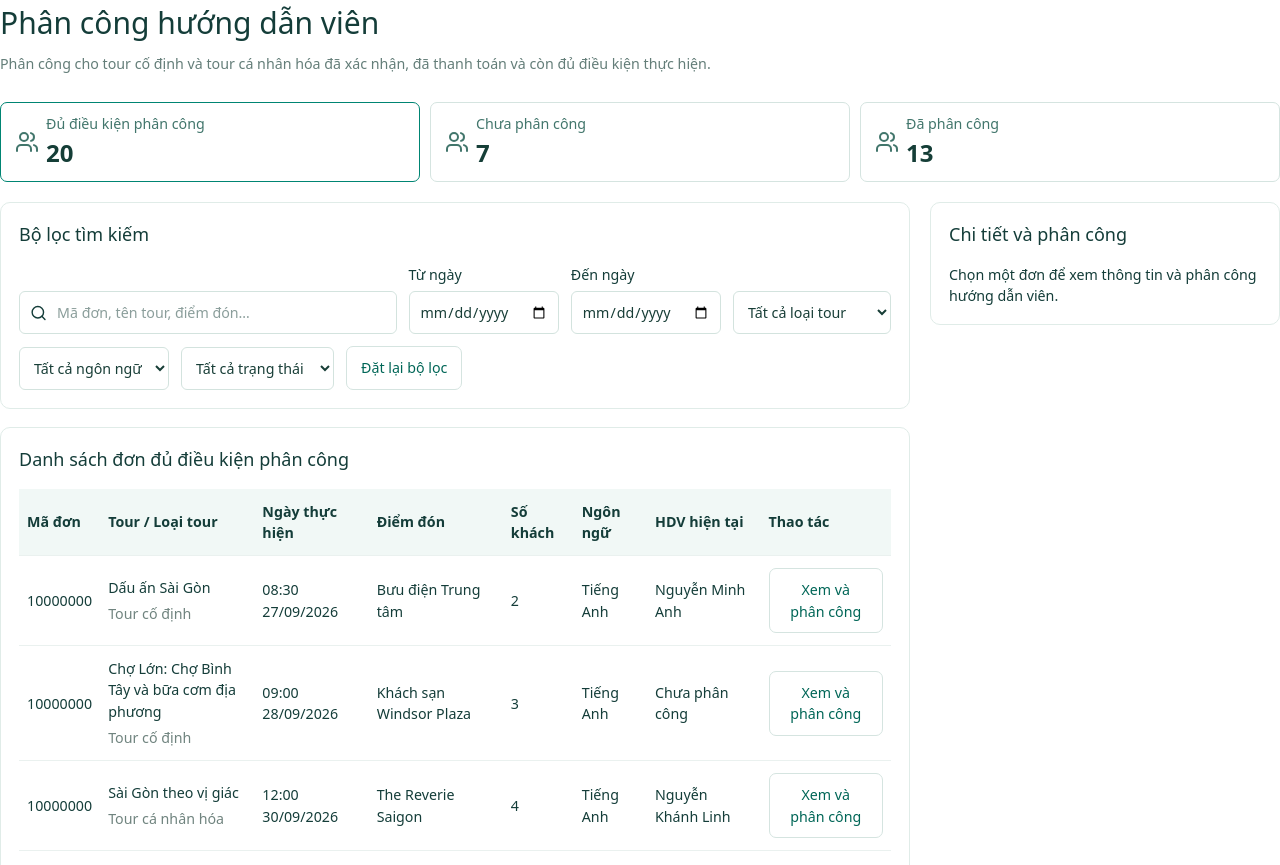
Test: preserves previous guide history when reassigning a sample booking
This screenshot has width=1280, height=865.
Expected: the text "Khách sạn Windsor Plaza" is shown, [369,646,503,761]
Click the button "Xem và phân công" in the row of "Dấu ấn Sài Gòn". click: point(826, 601)
box: [768,568,883,633]
(page scrolled)
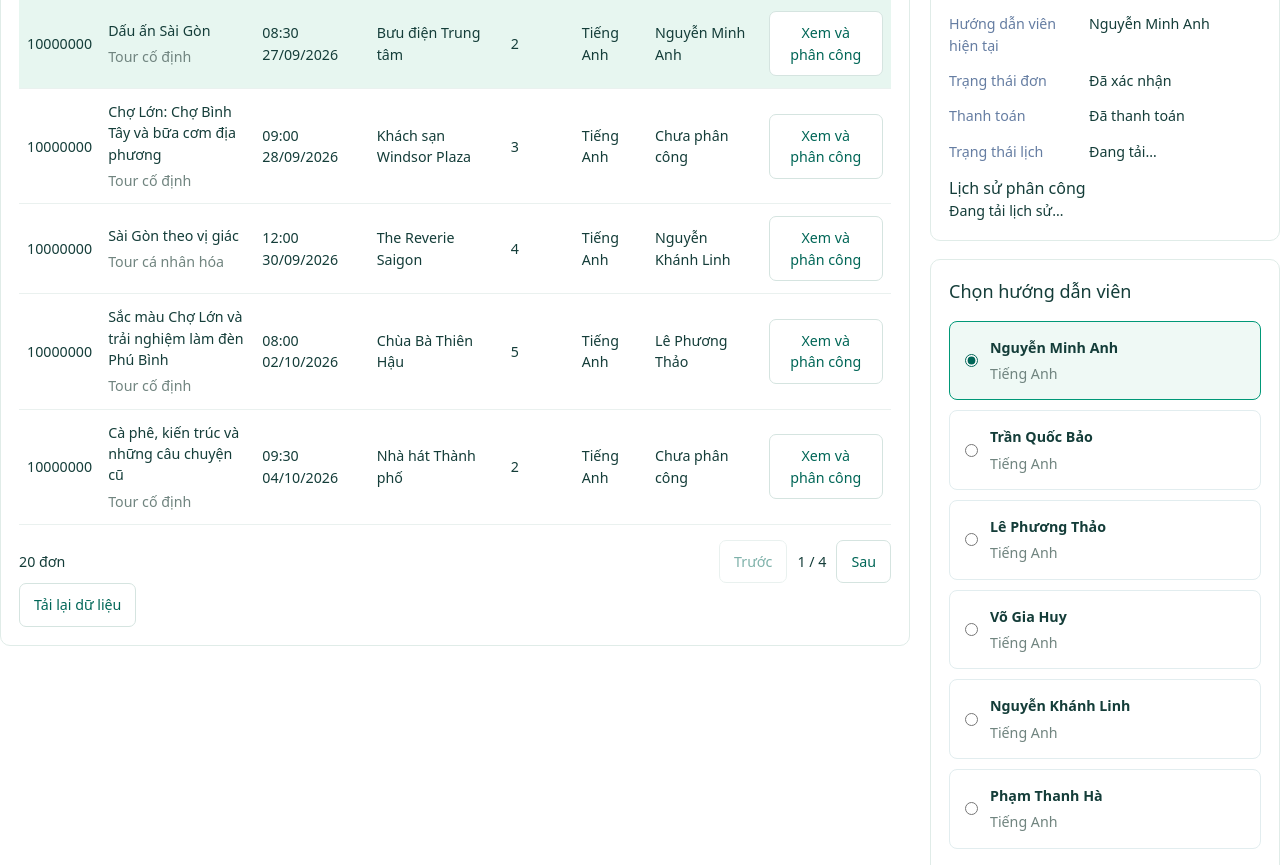
Click the radio button labelled "Trần Quốc Bảo Tiếng Anh". click: point(972, 450)
box: [965,444,978,456]
(page scrolled)
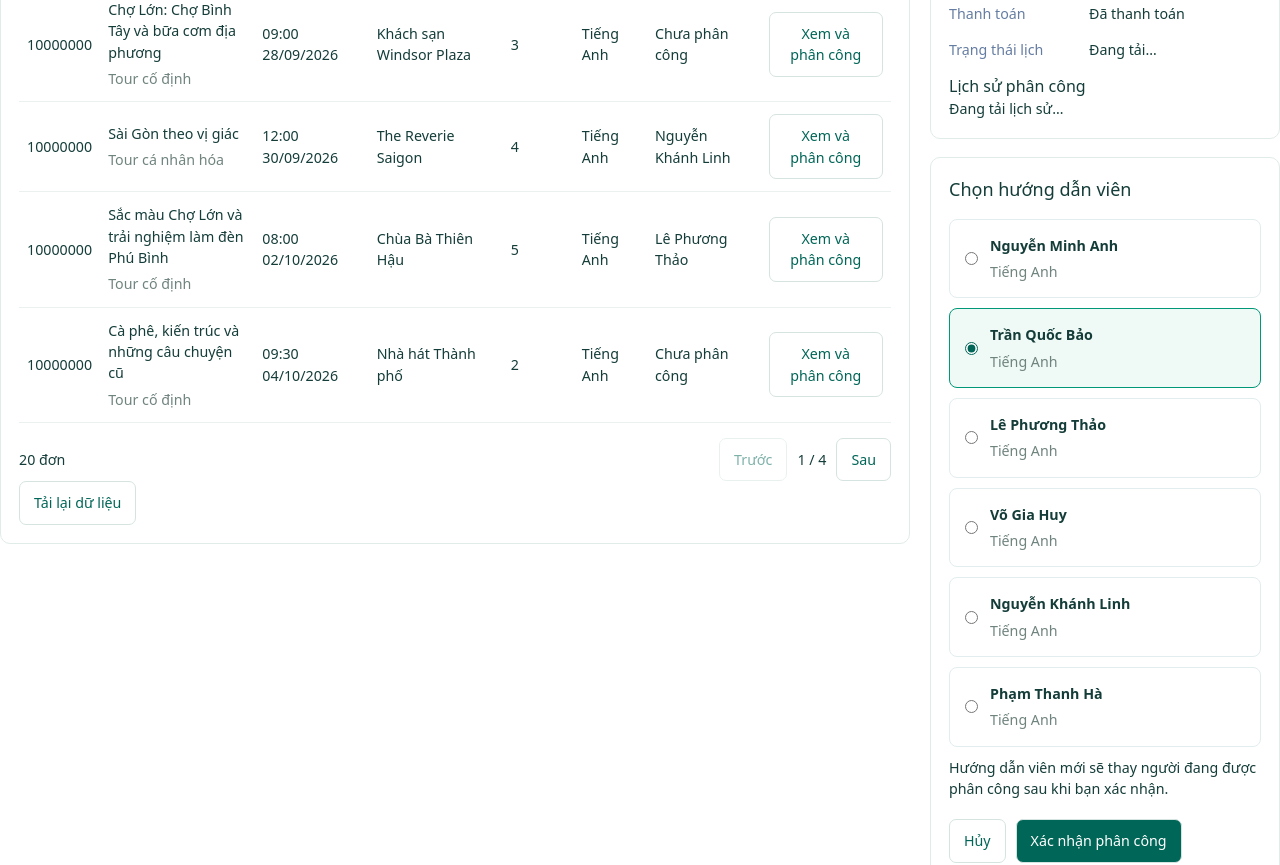
Click the button "Xác nhận phân công". click: point(1099, 841)
box: [1016,819,1182,863]
(page scrolled)
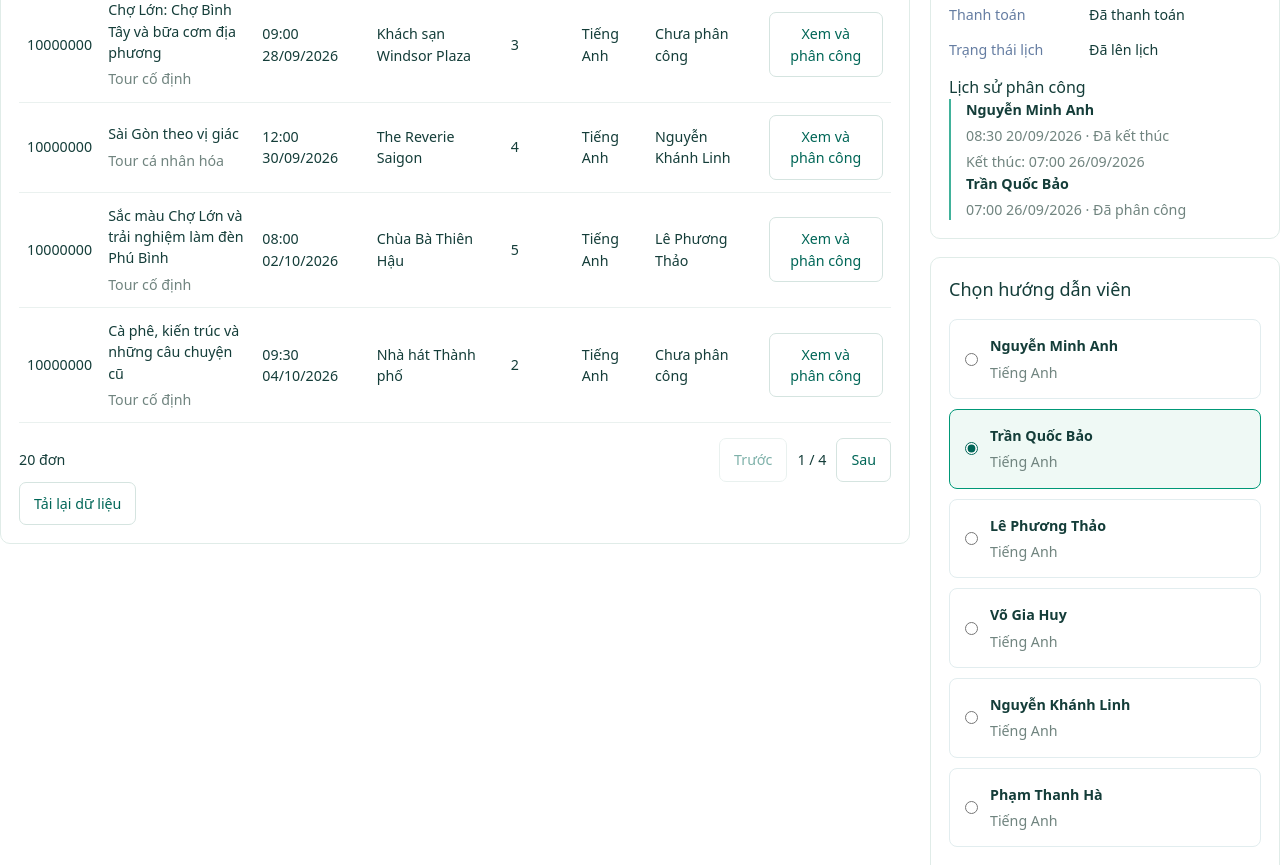
Expected: the text "Nguyễn Minh Anh" below "Lịch sử phân công" is shown, [966,100,1094,118]
Expected: the text "08:30 20/09/2026 · Đã kết thúc" is shown, [966,126,1169,145]
Expected: the text "Trần Quốc Bảo" below "Kết thúc:" is shown, [966,174,1069,192]
